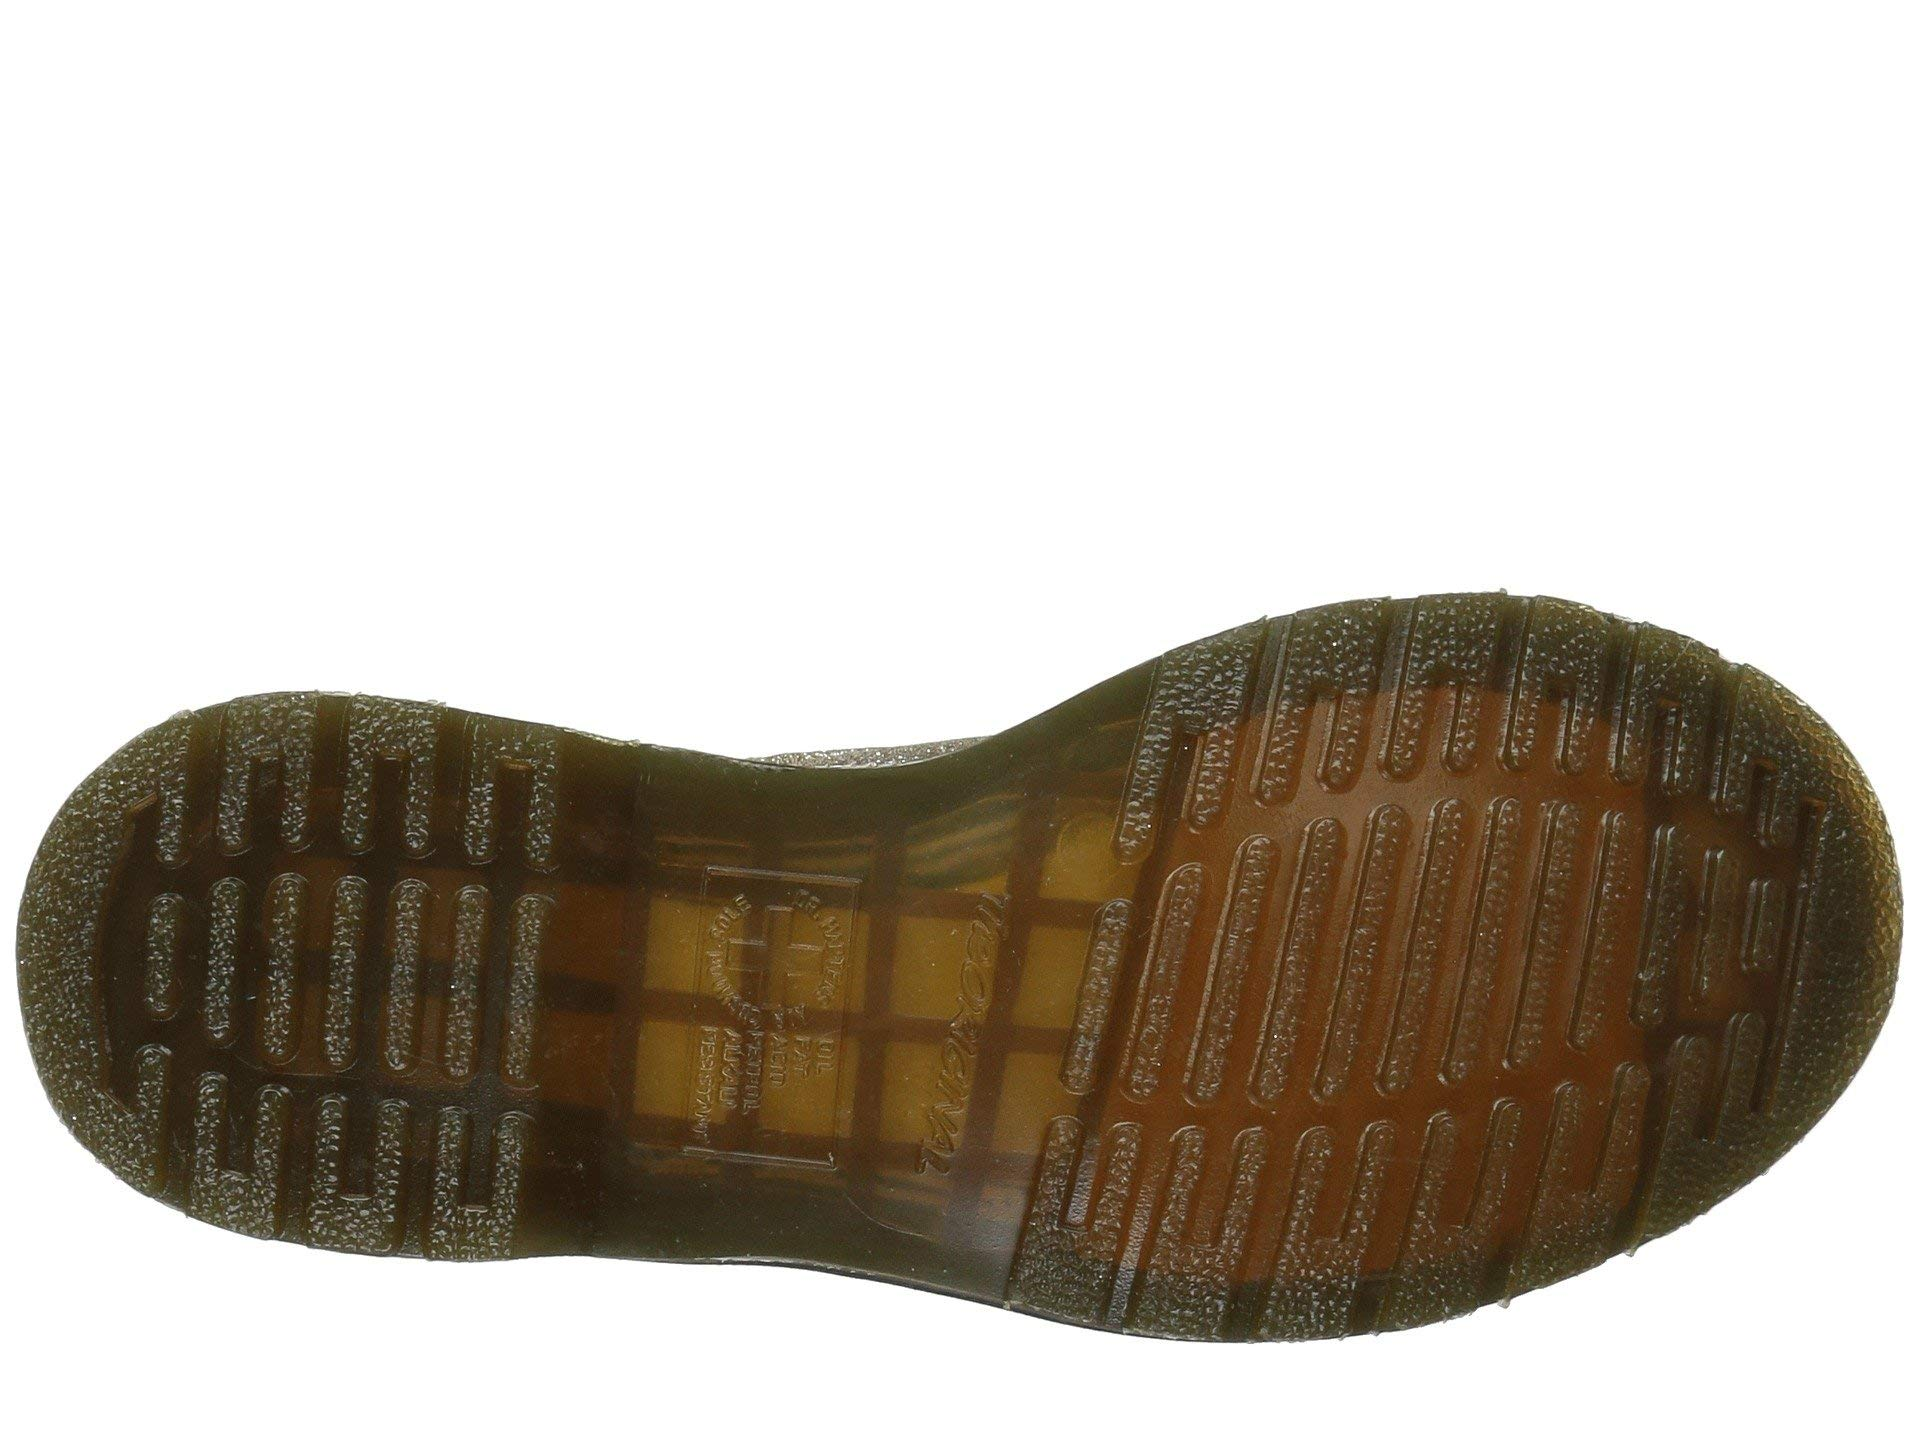exclude: (519, 659, 1119, 1305)
quad: (1036, 812, 1764, 1101), (141, 862, 494, 1086)
